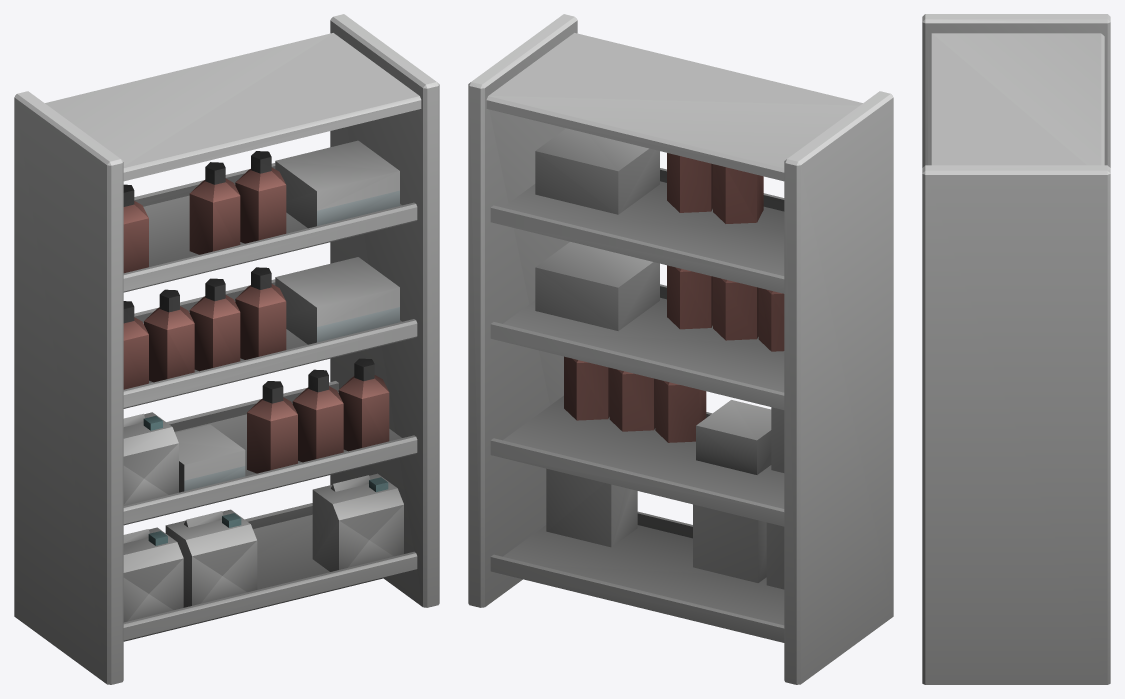
The model's file is shelf.glb.
3 renders of one model, left to right at view 1: azimuth 30°, elevation 25°; view 2: azimuth 150°, elevation 25°; view 3: azimuth 270°, elevation 25°, orthographic.
Parts seen in each view (by area): view 1: shelf; view 2: shelf; view 3: shelf.
Part boxes in pixels (x1=…): shelf: x1=14, y1=14, x2=439, y2=684; shelf: x1=468, y1=14, x2=893, y2=684; shelf: x1=922, y1=14, x2=1110, y2=684.
Bounding box in the file's own units: 1.2 × 1.8 × 0.6.
